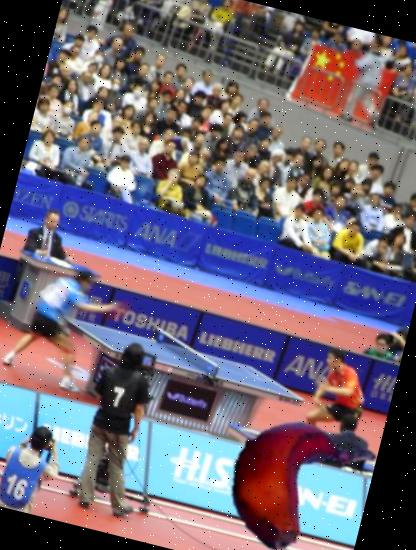Banana: (202, 387, 378, 550)
